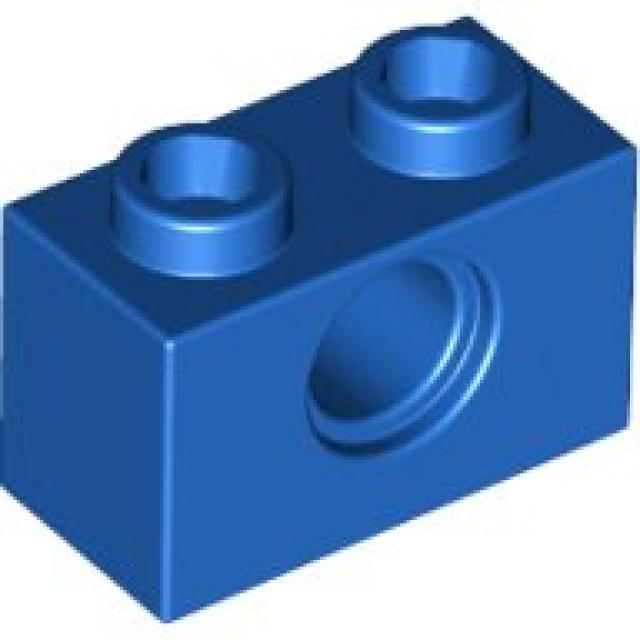Blue_Small: (0, 17, 640, 623)
